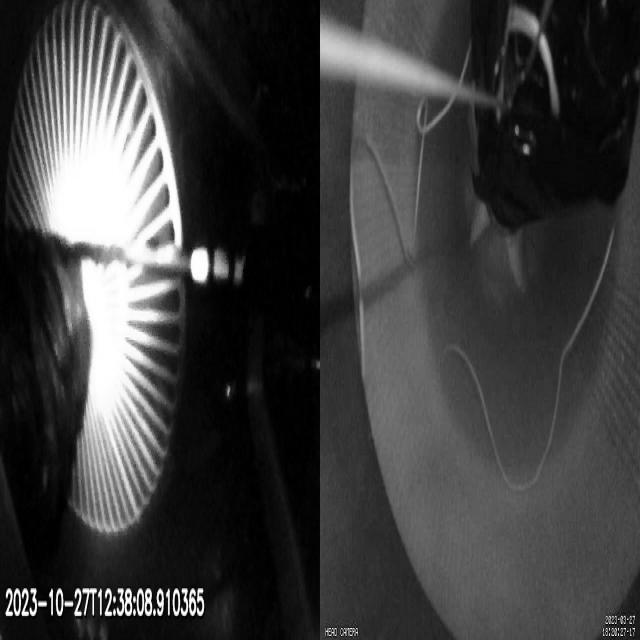white-dots: (190, 246, 245, 287)
